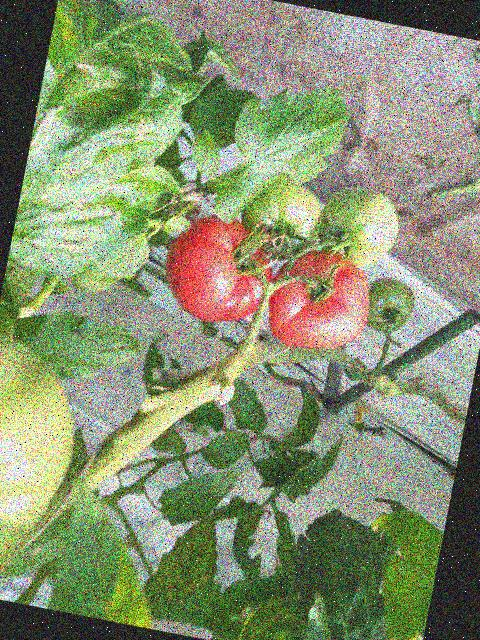b_fully_ripened: (154, 204, 281, 332), (257, 242, 379, 360)
b_green: (0, 332, 92, 608), (232, 171, 327, 268), (313, 180, 404, 272), (360, 274, 418, 338)
